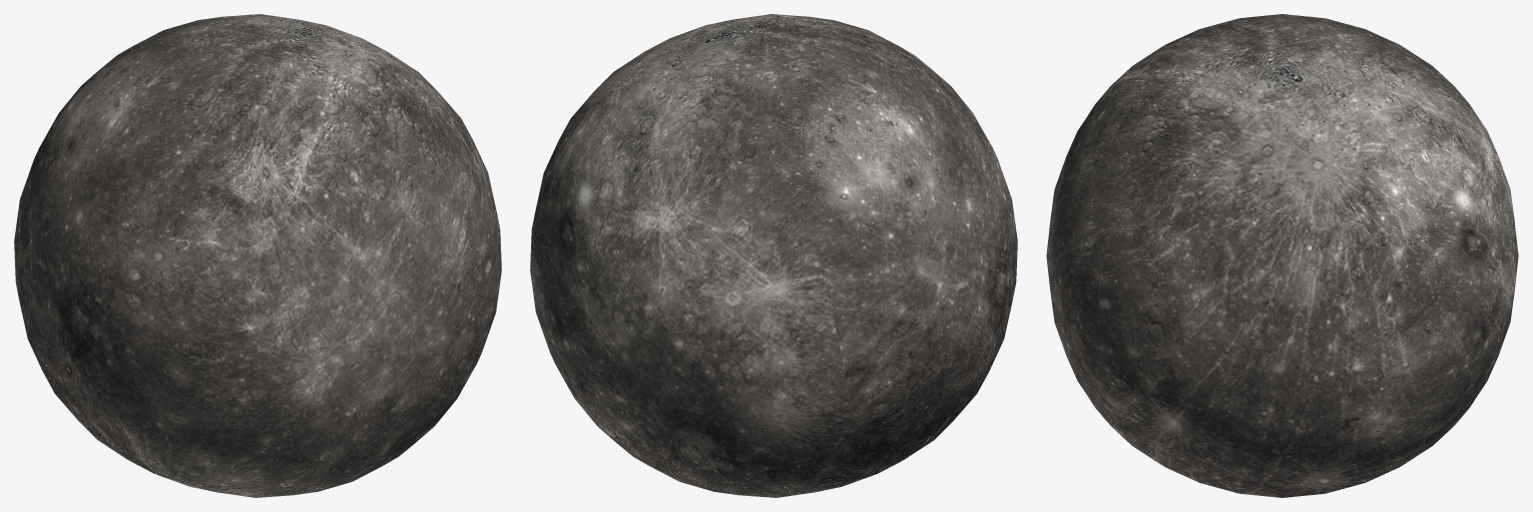
File: Mercury_1K.fbx
The picture shows the model from 3 angles, left to right: view 1: azimuth 30°, elevation 25°; view 2: azimuth 150°, elevation 25°; view 3: azimuth 270°, elevation 25°; orthographic projection.
Parts seen in each view (by area): view 1: Mercury; view 2: Mercury; view 3: Mercury.
Boxes of the visible parts, x1,y1,x2,y2 form: Mercury: (14, 14, 501, 497); Mercury: (530, 14, 1017, 497); Mercury: (1046, 14, 1518, 497).
Size of the model in its own units: 12744 by 12744 by 12709.
1 material, 1 textured.
